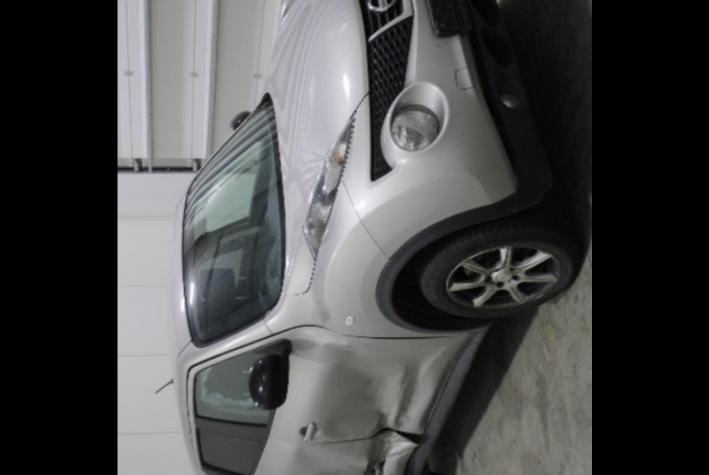Broken part: (254, 428, 423, 475)
Dent: (315, 343, 399, 440), (393, 352, 435, 431), (279, 444, 367, 475), (332, 430, 418, 460)
Missing part: (427, 0, 456, 28)
